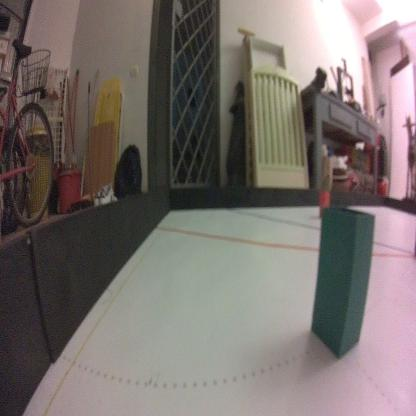green: (307, 204, 376, 361)
red: (318, 190, 330, 217)
